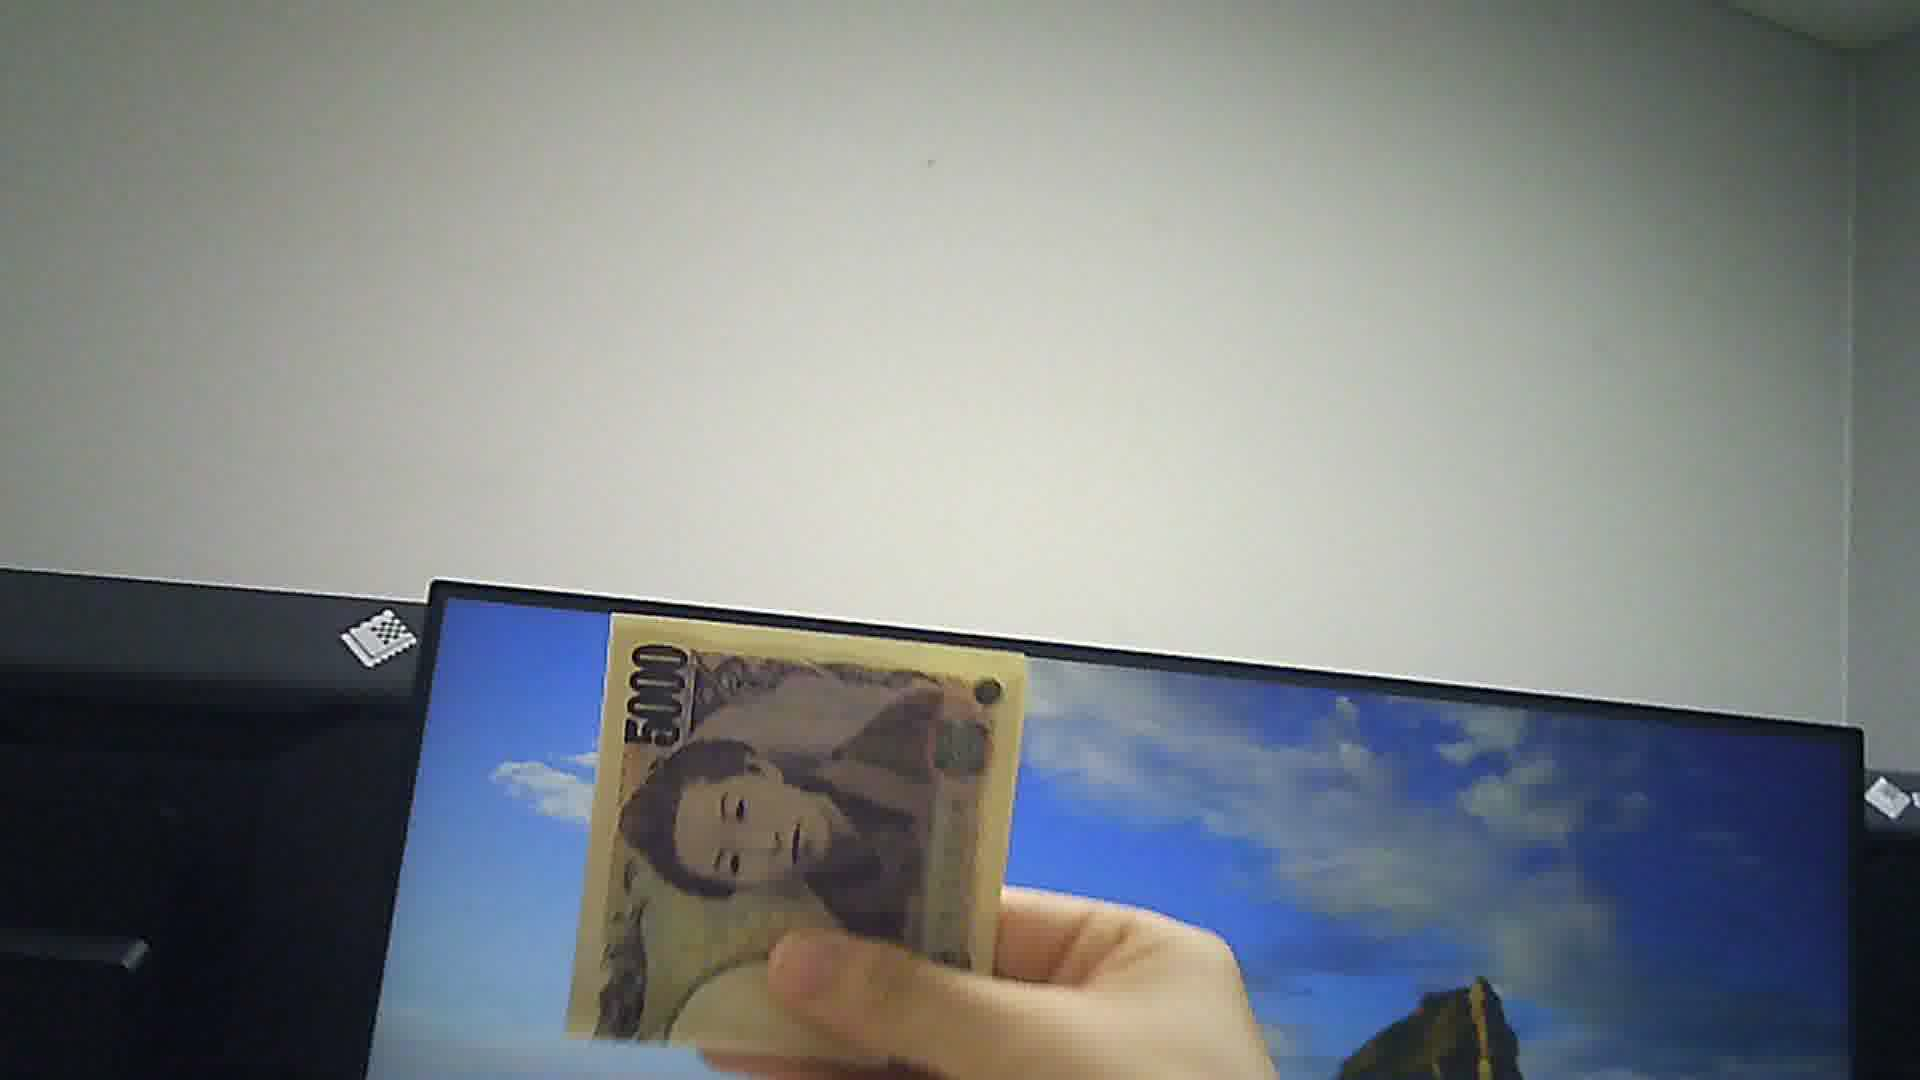5,000 Yen: (574, 609, 1029, 1062)
